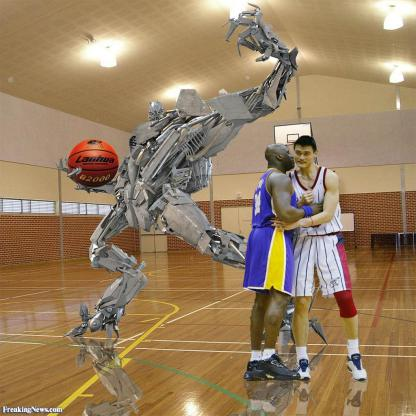face: (295, 148, 315, 168), (280, 148, 296, 169)
